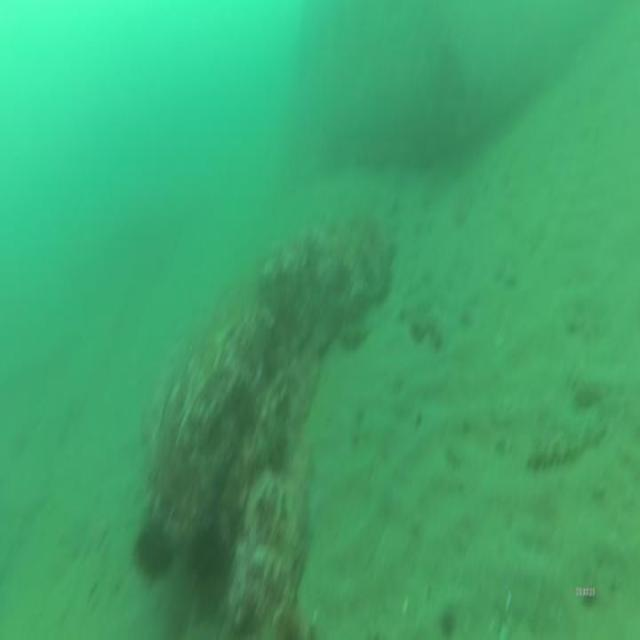echinus: (128, 504, 180, 588)
